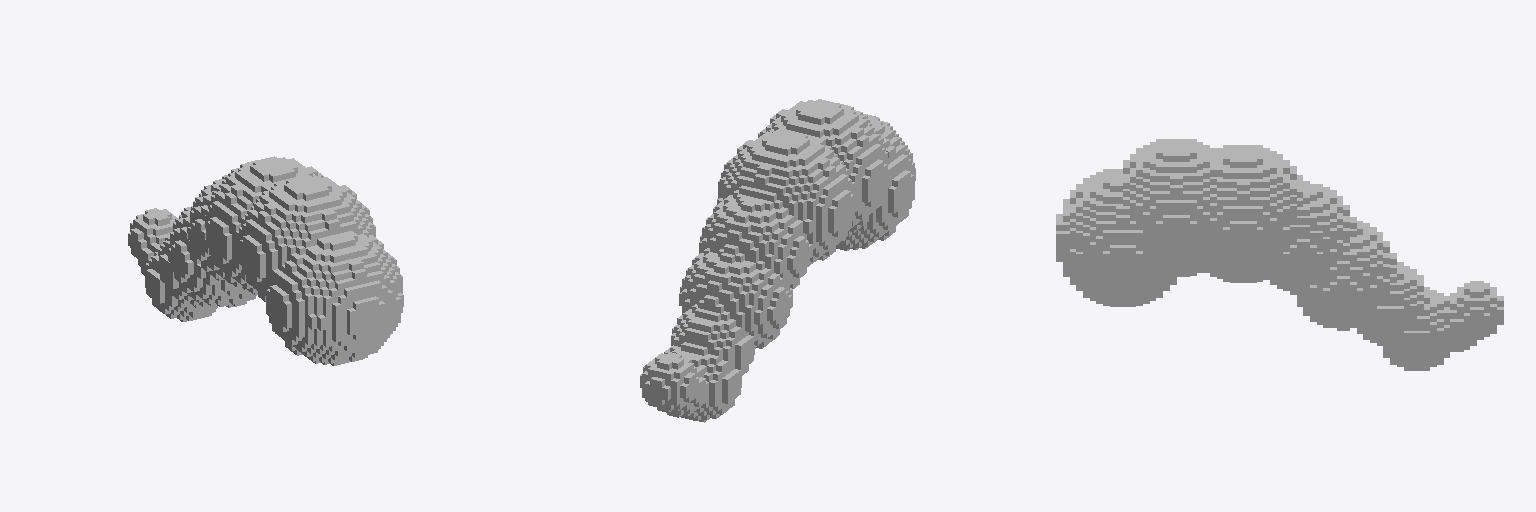
File: Tail.obj
3 renders of one model, left to right at view 1: azimuth 30°, elevation 25°; view 2: azimuth 150°, elevation 25°; view 3: azimuth 270°, elevation 25°, orthographic.
Bounding box in the file's own units: 20 × 36 × 67.